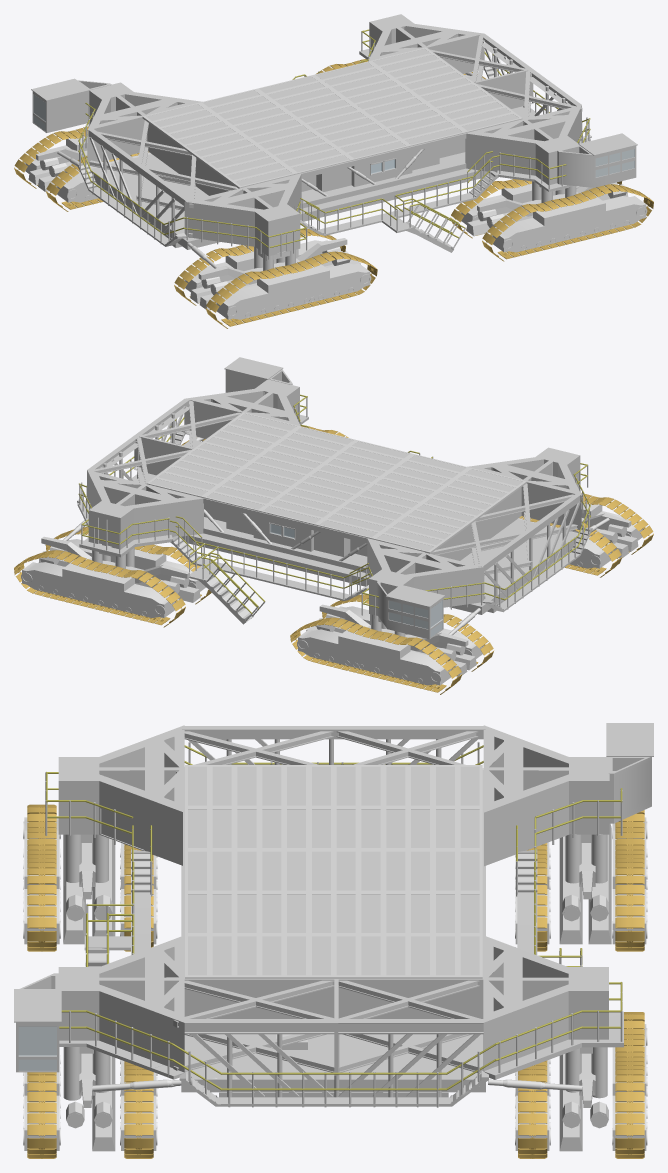
File: Crawler.glb
3 views of the same model, one above another, from view 1: azimuth 30°, elevation 25°; view 2: azimuth 150°, elevation 25°; view 3: azimuth 270°, elevation 25° (orthographic). The views are drawn at different scales.
Visible parts, largest first — view 1: polySurface1; view 2: polySurface1; view 3: polySurface1.
Boxes of the visible parts, x1,y1,x2,y2 form: polySurface1: [14, 14, 653, 328]; polySurface1: [14, 357, 653, 694]; polySurface1: [14, 723, 653, 1158].
Bounding box in the file's own units: 8.77 × 1.7 × 7.19.
